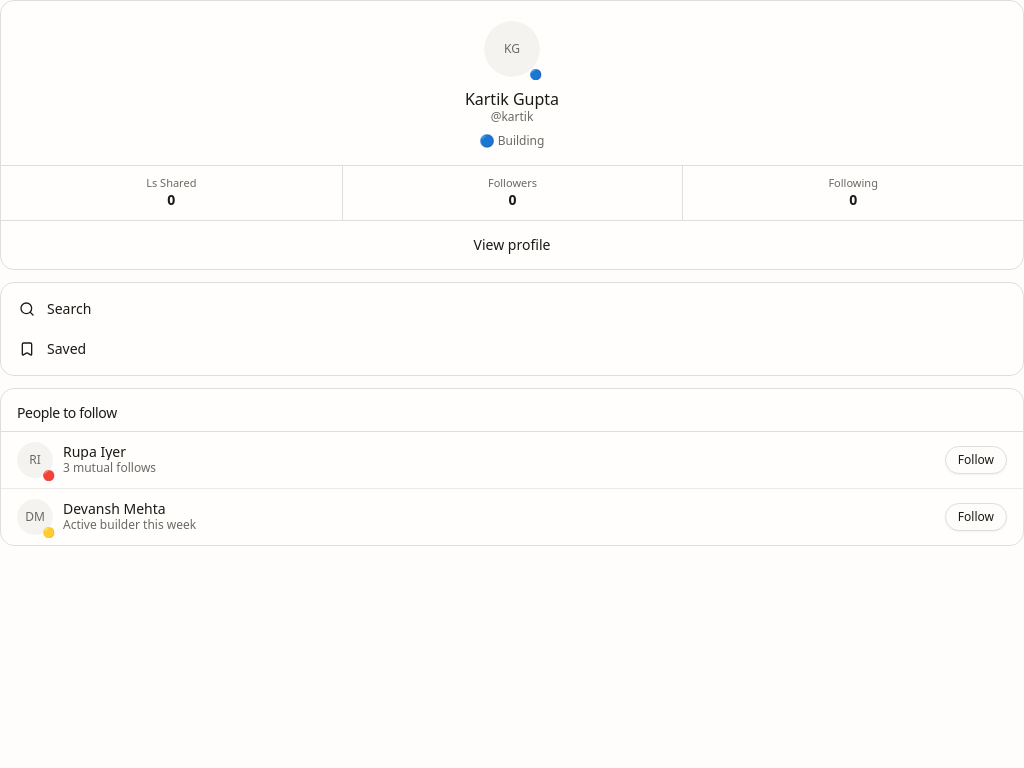
Test: FeedSidebarLeft - people to follow › drops the suggestion optimistically, before the write settles
Click the button "Follow" in the row of "3 mutual follows".
click(976, 460)  # box [945,446,1007,474]
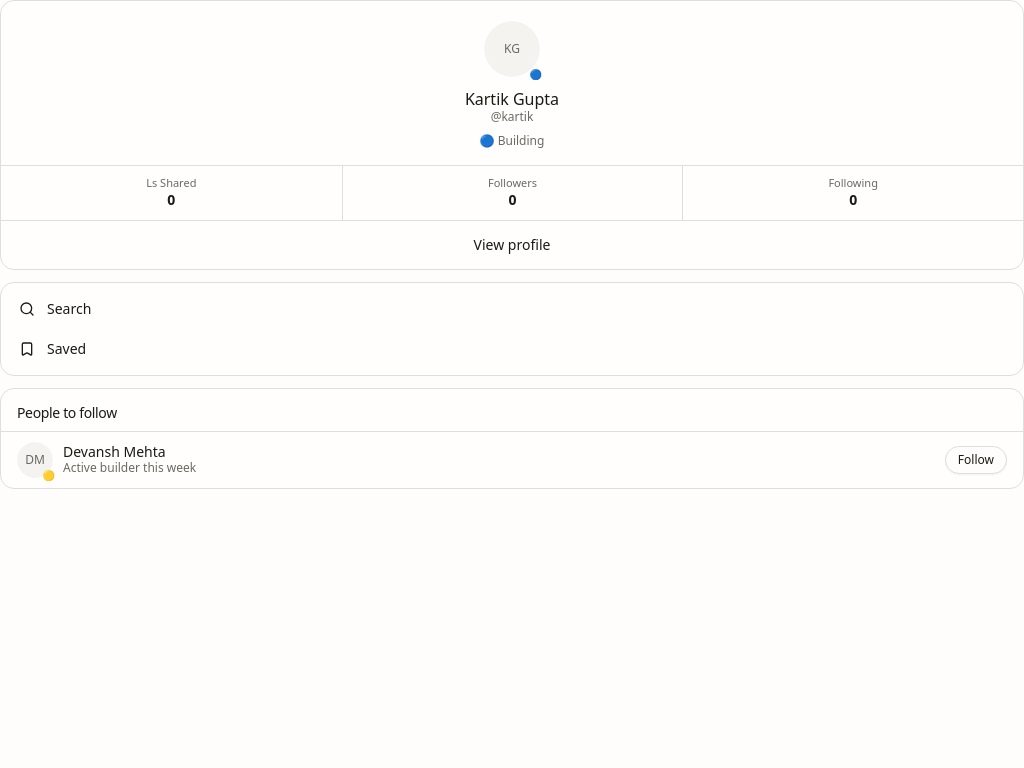
Now the link "Rupa Iyer" is gone
